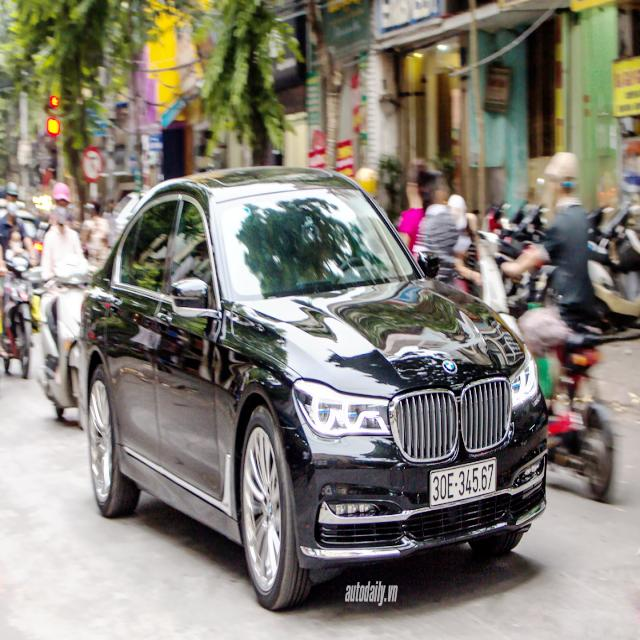license_plate: (431, 457, 498, 508)
